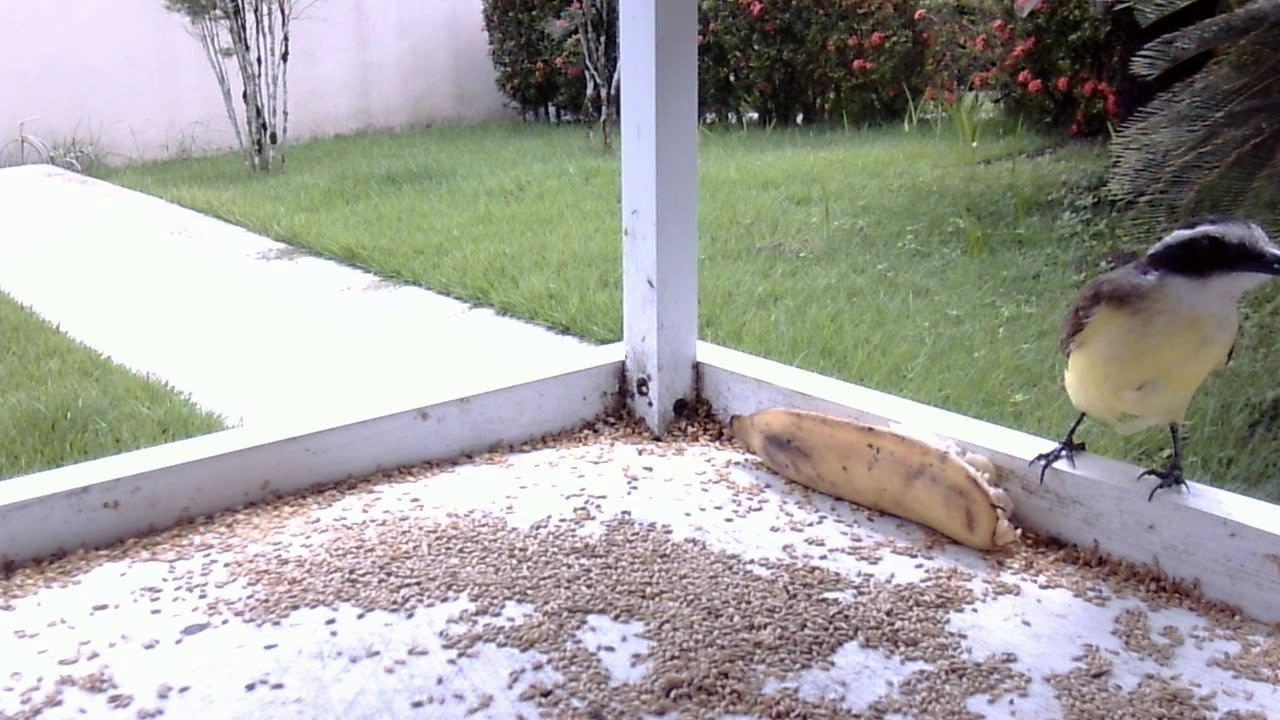bem_te_vi: (1018, 205, 1275, 510)
